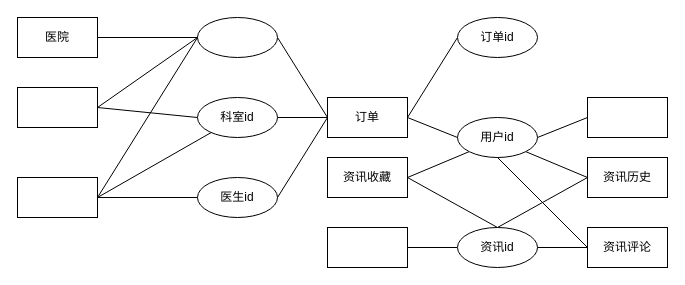
Image size: 685x285. Some labels were removed from this diagram. The shapes that lost their labels are listed below. From the top down, each one's centre as x and y in pixels, then its label:
At point (237, 37): "医院id".
At point (57, 107): "科室".
At point (627, 117): "用户".
At point (57, 197): "医生".
At point (367, 247): "资讯".
